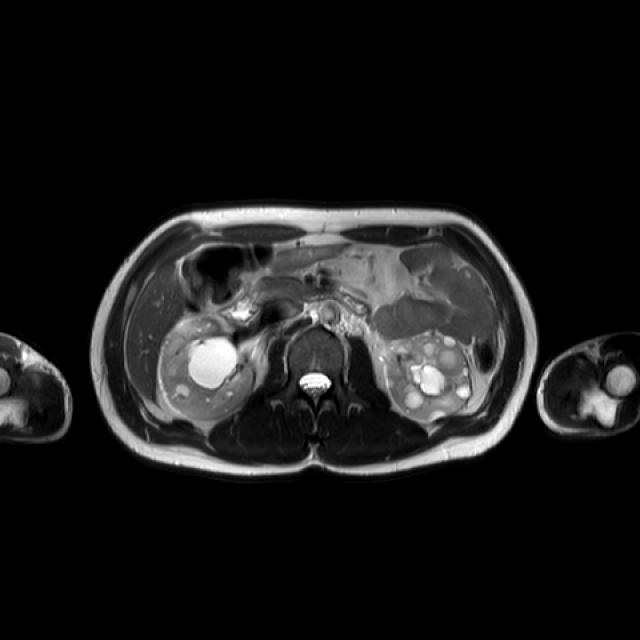Sag: (159, 316, 255, 424)
Sol: (380, 333, 475, 424)
